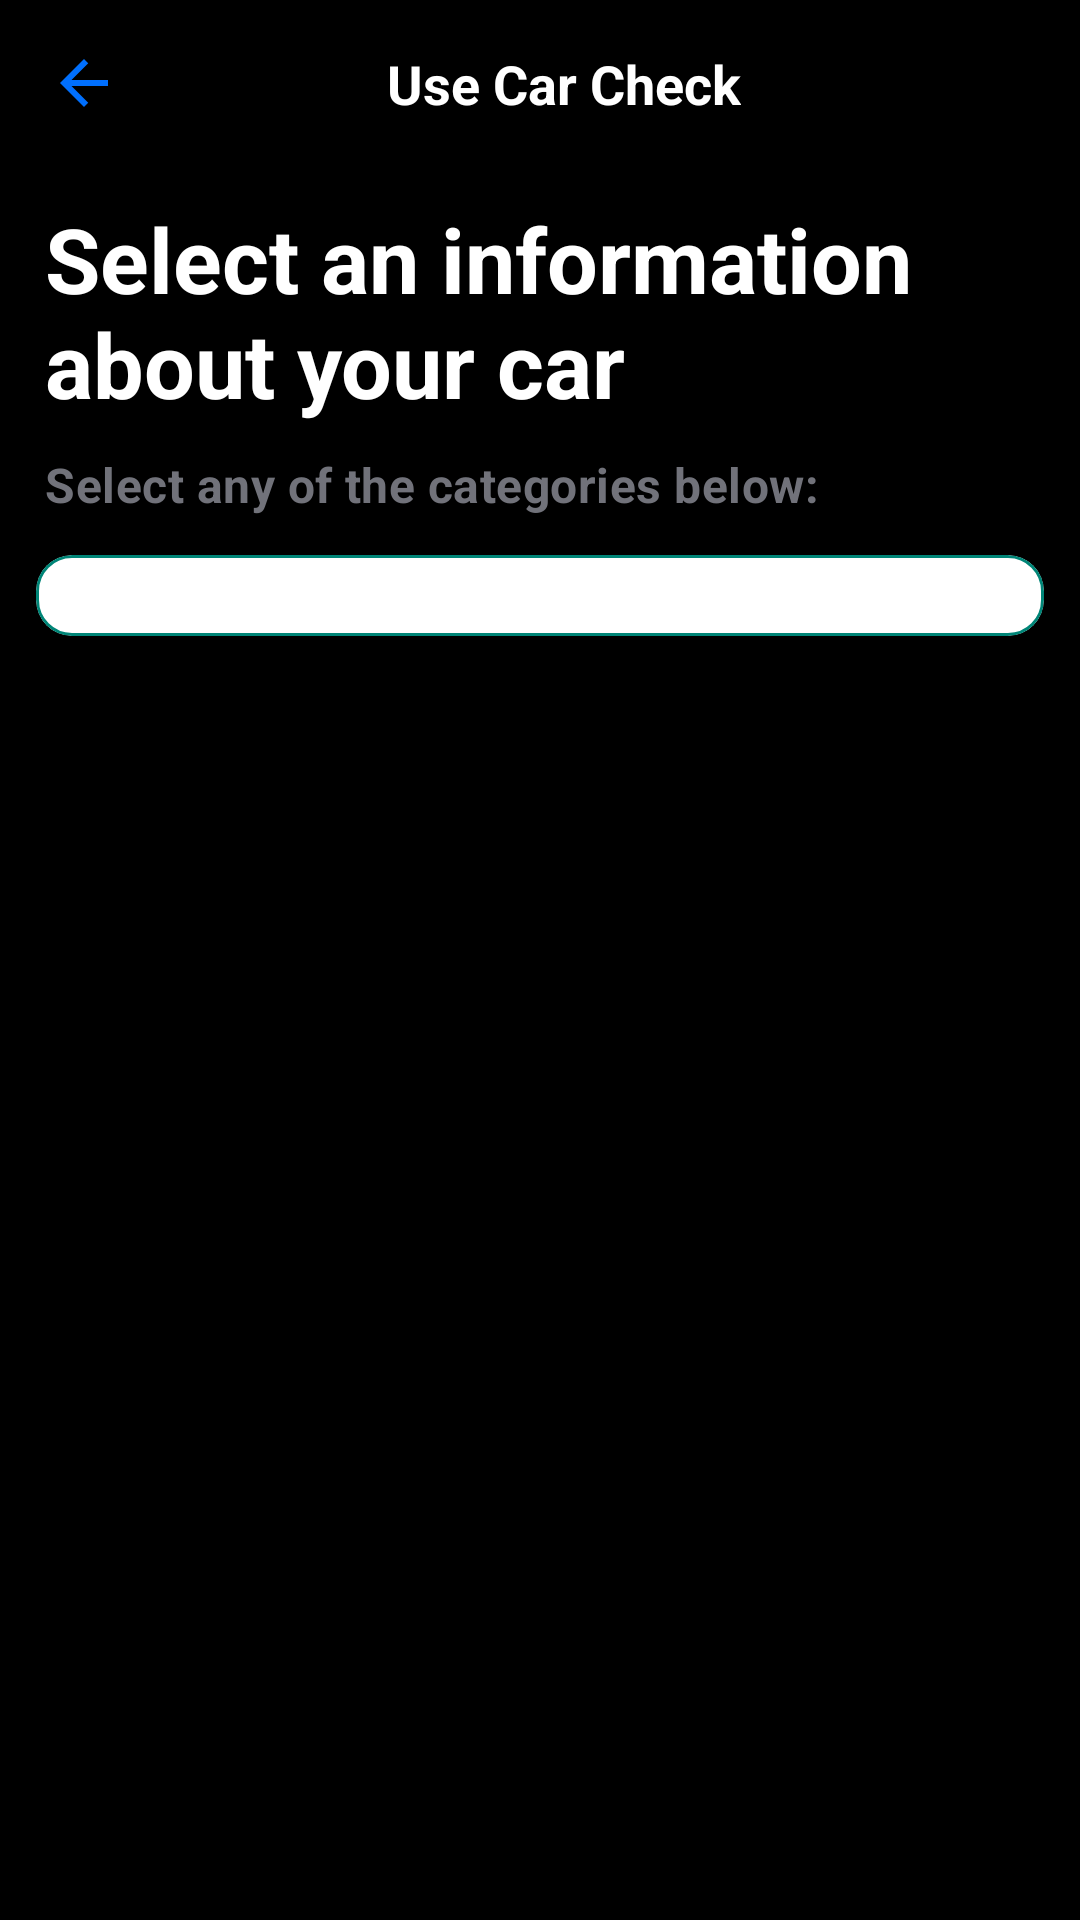

Screen size 1080x1920. Icon name, then its center in pixels as [x,y]:
arrow back: [84,83]
